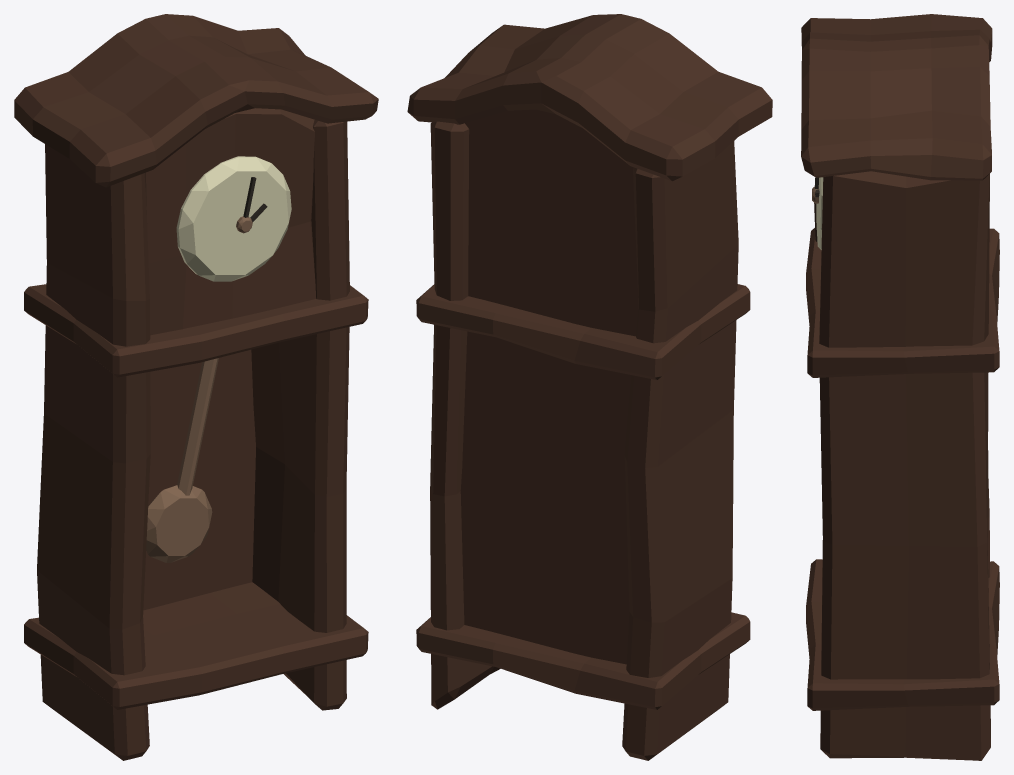
The model's file is clock.fbx.
3 renders of one model, left to right at view 1: azimuth 30°, elevation 25°; view 2: azimuth 150°, elevation 25°; view 3: azimuth 270°, elevation 25°, orthographic.
Visible parts, largest first — view 1: PendulumStructure, Pendulum; view 2: PendulumStructure; view 3: PendulumStructure.
Part boxes in pixels (<box>): PendulumStructure: <box>14,14,378,760</box>; Pendulum: <box>146,358,218,562</box>; PendulumStructure: <box>407,14,772,760</box>; PendulumStructure: <box>801,14,999,760</box>.
Bounding box in the file's own units: 139 × 311 × 83.77.
